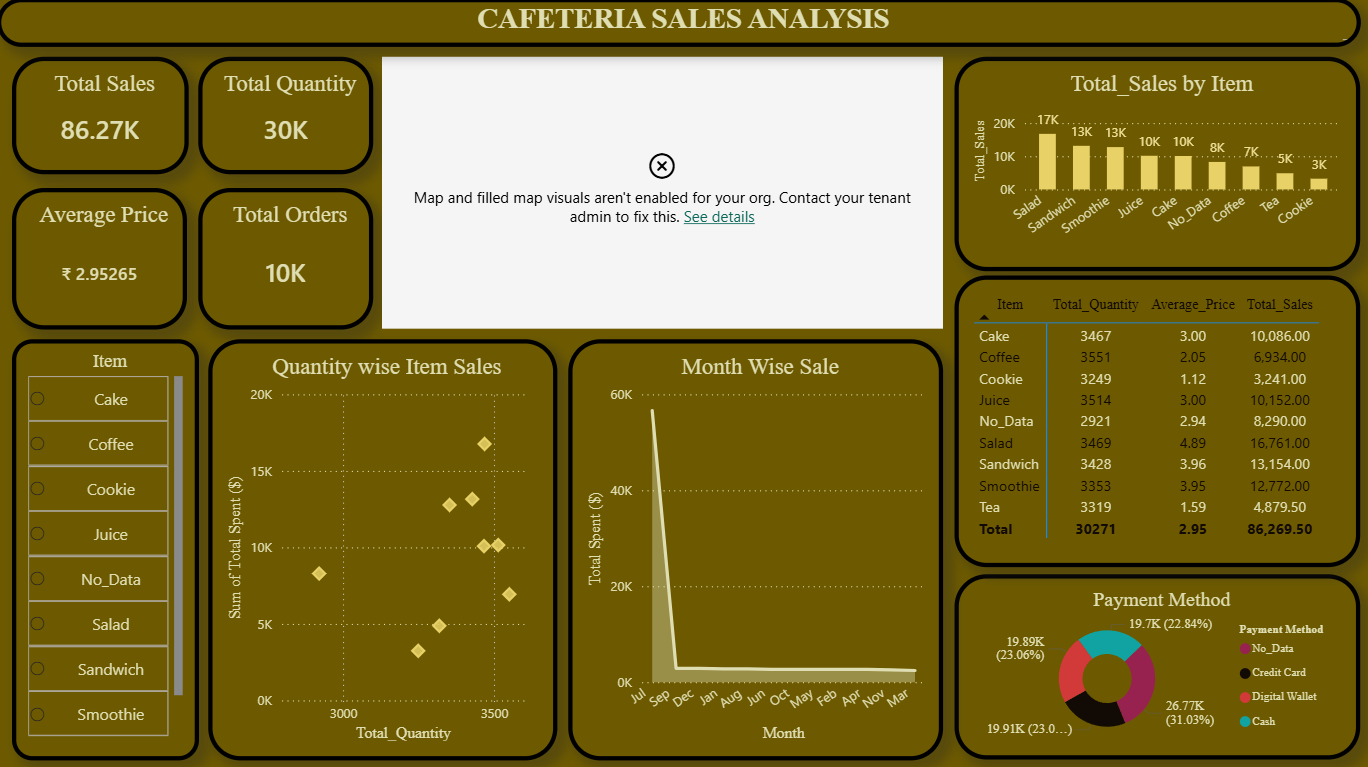

Layout of this report page (visuals, bound fields, positions):
{"tool":"powerbi","page":{"name":"Page 1","canvas":[1280,720],"ordinal":0},"visuals":[{"type":"cardVisual","title":"Total Sales","fields":{"Data":["Sum(Cafeteria_Cleaned_data.Total Spent ($))"]},"box":[13.7,54.9,164.7,109.8],"z":0},{"type":"cardVisual","title":"Total Quantity","fields":{"Data":["Cafeteria_Cleaned_data.Total_Quantity"]},"box":[188,54.9,163.3,109.8],"z":1000},{"type":"cardVisual","title":"Average Price","fields":{"Data":["Cafeteria_Cleaned_data.Average_Price"]},"box":[13.7,177,163.3,131.7],"z":2000},{"type":"listSlicer","fields":{"Values":["Cafeteria_Cleaned_data.Item"]},"box":[13.7,318.4,174.3,392.5],"z":3000},{"type":"cardVisual","title":"Total Orders","fields":{"Data":["Cafeteria_Cleaned_data.Toatal_Orders"]},"box":[188,177,163.3,131.7],"z":4000},{"type":"columnChart","fields":{"Category":["Cafeteria_Cleaned_data.Item"],"Y":["Cafeteria_Cleaned_data.Total_Sales"]},"box":[893.3,54.9,378.7,200.3],"z":5000},{"type":"donutChart","title":"Payment Method","fields":{"Category":["Cafeteria_Cleaned_data.Payment Method"],"Y":["Cafeteria_Cleaned_data.Total_Sales"]},"box":[893.3,537.9,378.7,172.9],"z":6000},{"type":"scatterChart","title":"Quantity wise Item Sales","fields":{"X":["Cafeteria_Cleaned_data.Total_Quantity"],"Y":["Sum(Cafeteria_Cleaned_data.Total Spent ($))"],"Category":["Cafeteria_Cleaned_data.Item"]},"box":[197.6,318.4,325.2,392.5],"z":7000},{"type":"map","fields":{"Series":["Cafeteria_Cleaned_data.Location"],"Size":["Cafeteria_Cleaned_data.Total_Sales"]},"box":[359.5,54.9,522.8,253.9],"z":8000},{"type":"lineChart","title":"Month Wise Sale","fields":{"Category":["Cafeteria_Cleaned_data.Month"],"Y":["Sum(Cafeteria_Cleaned_data.Total Spent ($))"]},"box":[532.4,318.4,349.9,392.5],"z":9000},{"type":"pivotTable","fields":{"Rows":["Cafeteria_Cleaned_data.Item"],"Values":["Cafeteria_Cleaned_data.Total_Quantity","Cafeteria_Cleaned_data.Average_Price","Cafeteria_Cleaned_data.Total_Sales"]},"box":[893.3,259.3,378.7,271.7],"z":10000},{"type":"textbox","title":"CAFETERIA SALES ANALYSIS","box":[0,0,1272,45.3],"z":11000}]}

Visuals, with their boxes in screenshot pixels (x1, y1, x2, y2), scaled from the page's 1280x720 canvas onto the 1368x767 screenshot:
"Total Sales" cardVisual: [15, 58, 191, 175]
"Total Quantity" cardVisual: [201, 58, 375, 175]
"Average Price" cardVisual: [15, 189, 189, 329]
listSlicer - Cafeteria_Cleaned_data.Item: [15, 339, 201, 757]
"Total Orders" cardVisual: [201, 189, 375, 329]
columnChart - Cafeteria_Cleaned_data.Item x Cafeteria_Cleaned_data.Total_Sales: [955, 58, 1359, 272]
"Payment Method" donutChart: [955, 573, 1359, 757]
"Quantity wise Item Sales" scatterChart: [211, 339, 559, 757]
map - Cafeteria_Cleaned_data.Location x Cafeteria_Cleaned_data.Total_Sales: [384, 58, 943, 329]
"Month Wise Sale" lineChart: [569, 339, 943, 757]
pivotTable - Cafeteria_Cleaned_data.Item x Cafeteria_Cleaned_data.Total_Quantity: [955, 276, 1359, 566]
"CAFETERIA SALES ANALYSIS" textbox: [0, 0, 1359, 48]
